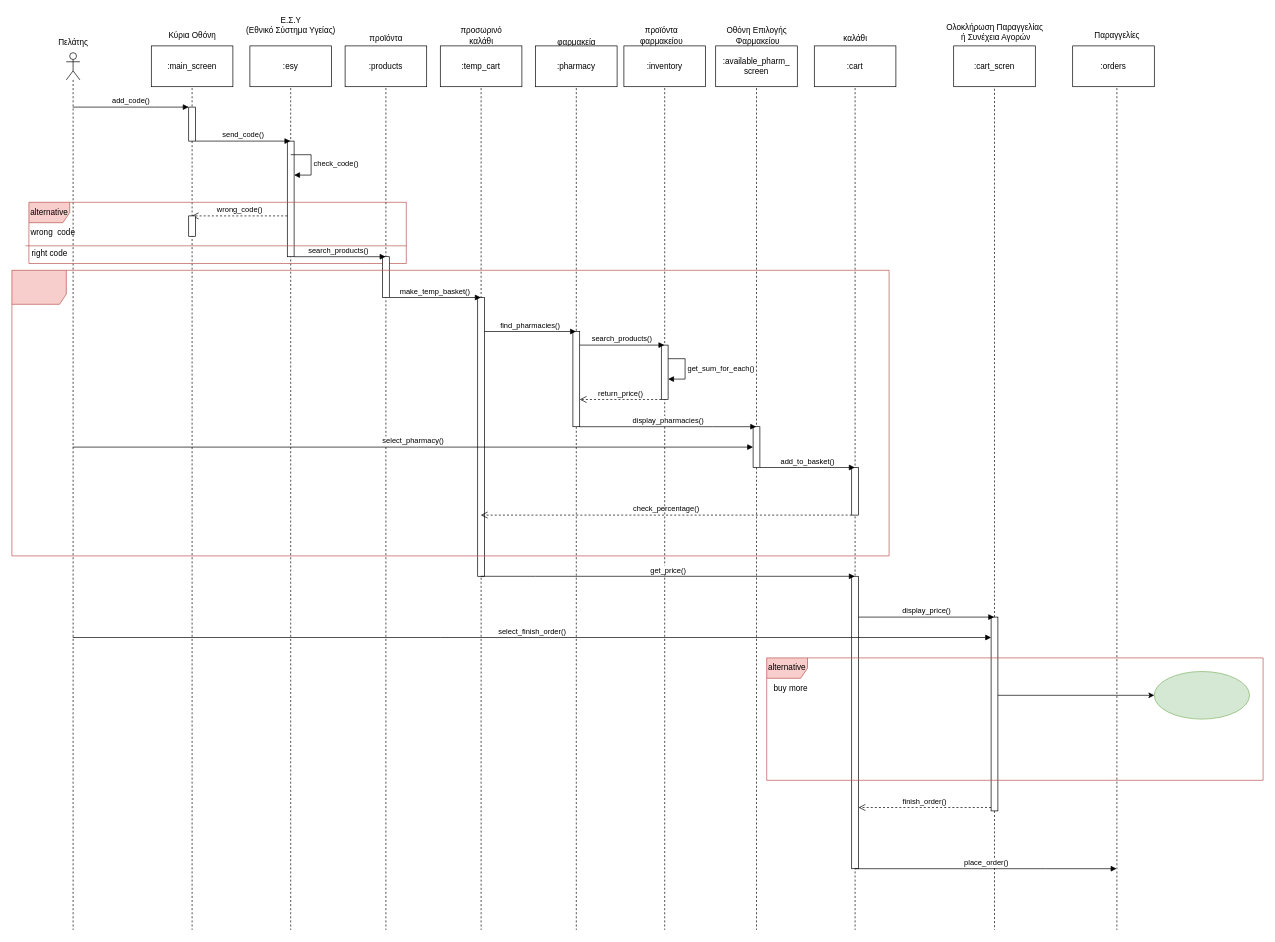
Some shapes in this 1275 by 942 pixel diagram are drawn without their labels. The box of each missing label's shape, as (x1, y1, x2, y2) in pixels:
loop until percentage 100%: (11, 270, 889, 556)
Δημιουργία Παραγγελίας: (1154, 671, 1250, 719)
